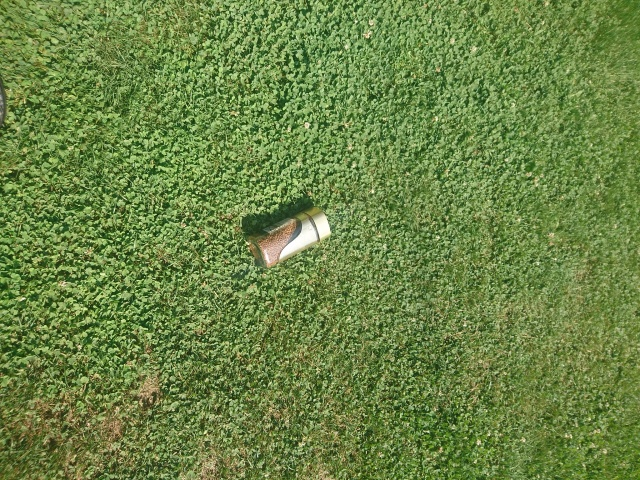Nescafe Gold 225g: (244, 204, 334, 269)
